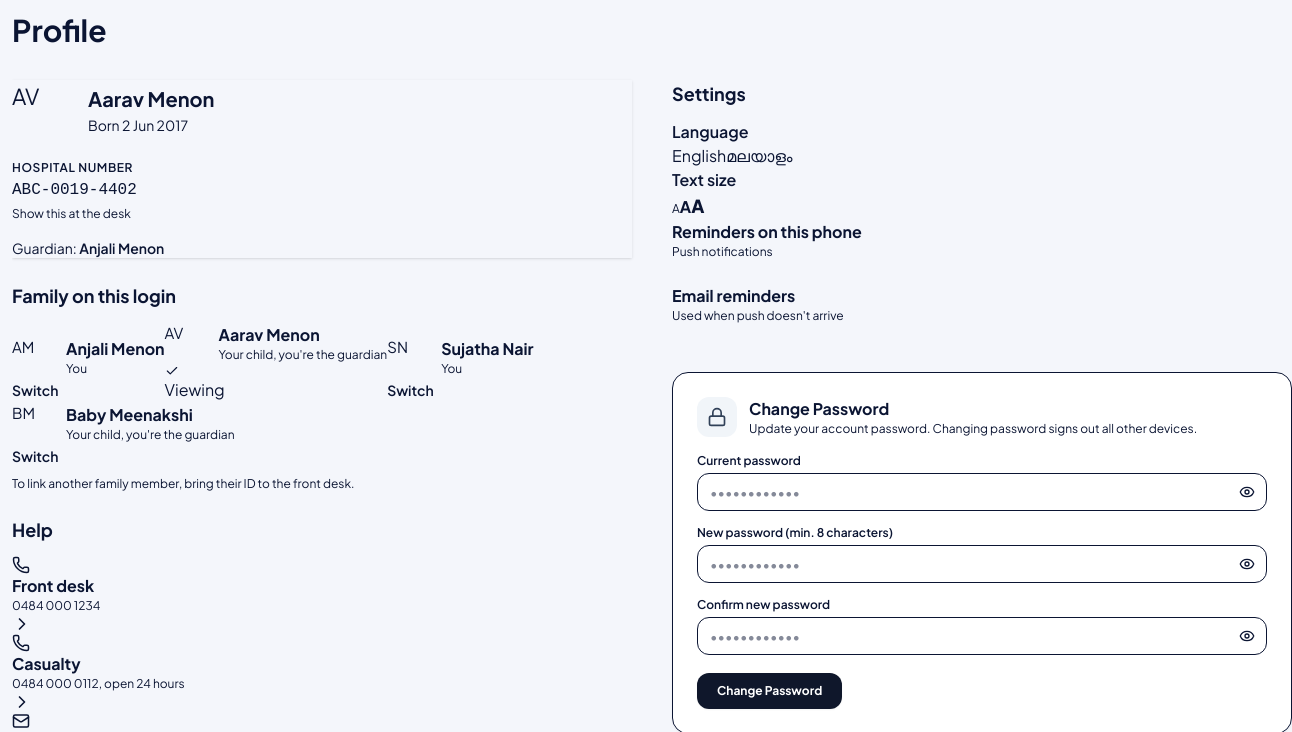
Test case: Patient Profile Screen (Screen 5) › allows switching language between English and Malayalam
What coordinates should you click on to do the following:
click the button "മലയാളം"
I would click on:
 (759, 156)
Its box is [726,144,792,168].
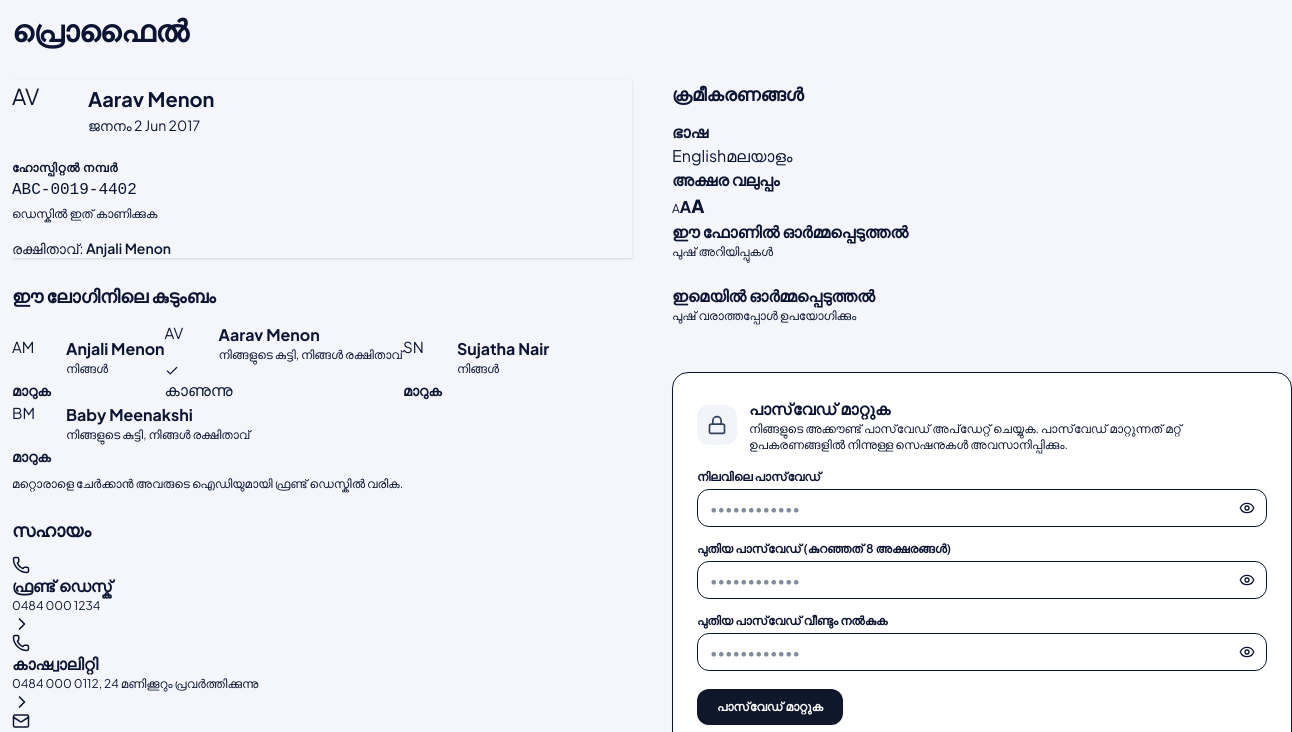
Result: the heading "പ്രൊഫൈൽ" is shown at [12,11,189,49]
